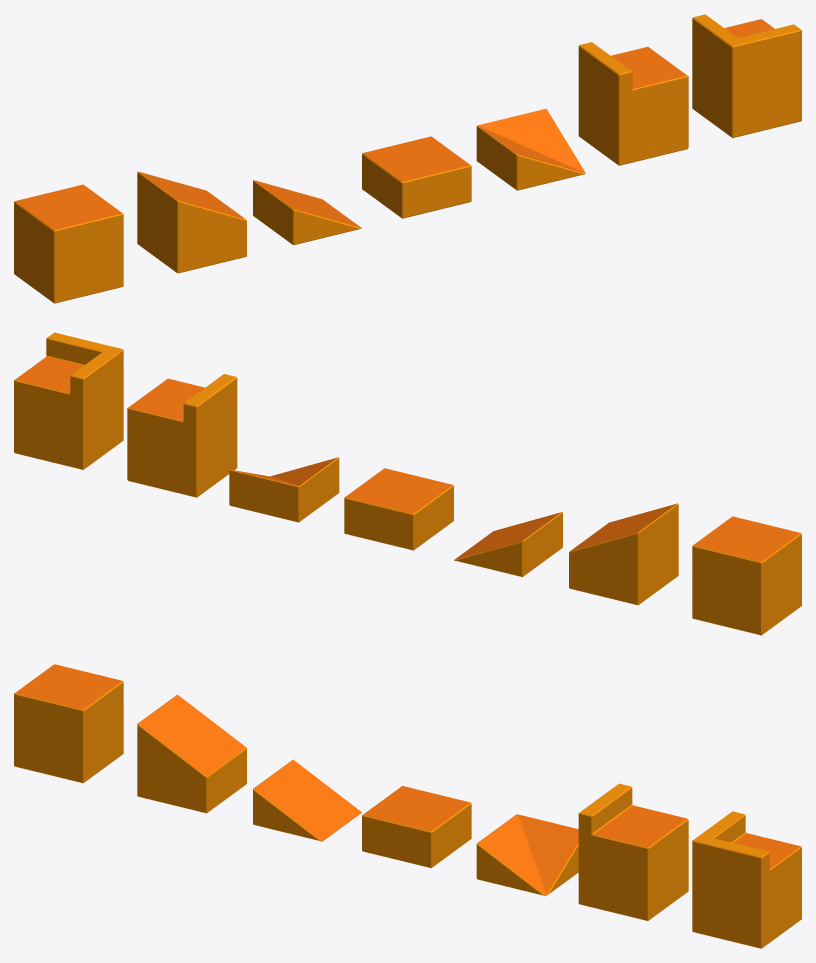
The model's file is grid_map_tiles.glb.
3 views of the same model, one above another, from view 1: azimuth 30°, elevation 25°; view 2: azimuth 150°, elevation 25°; view 3: azimuth 330°, elevation 25° (orthographic).
Parts seen in each view (by area): view 1: block_wall_edge, block_wall, block, block_ramp_top, block_short, block_weird, block_ramp_bottom; view 2: block_wall_edge, block_wall, block, block_ramp_top, block_short, block_weird, block_ramp_bottom; view 3: block_wall, block_wall_edge, block, block_ramp_top, block_short, block_weird, block_ramp_bottom.
Boxes of the visible parts, x1,y1,x2,y2 form: block_wall_edge: (692, 14, 801, 137); block_wall: (578, 42, 688, 165); block: (14, 184, 123, 303); block_ramp_top: (137, 171, 246, 273); block_short: (362, 136, 471, 218); block_weird: (476, 109, 585, 190); block_ramp_bottom: (253, 180, 361, 245); block_wall_edge: (14, 332, 123, 469); block_wall: (127, 374, 237, 497); block: (692, 516, 801, 635); block_ramp_top: (569, 503, 678, 605); block_short: (344, 468, 453, 550); block_weird: (229, 457, 339, 522); block_ramp_bottom: (454, 512, 562, 576); block_wall: (578, 783, 688, 920); block_wall_edge: (692, 811, 801, 948); block: (14, 664, 123, 783); block_ramp_top: (137, 694, 246, 813); block_short: (362, 786, 471, 868); block_weird: (476, 814, 578, 895); block_ramp_bottom: (253, 759, 361, 841).
Size of what is drawn, in the model's own units: 21.31 by 2.5 by 2.
